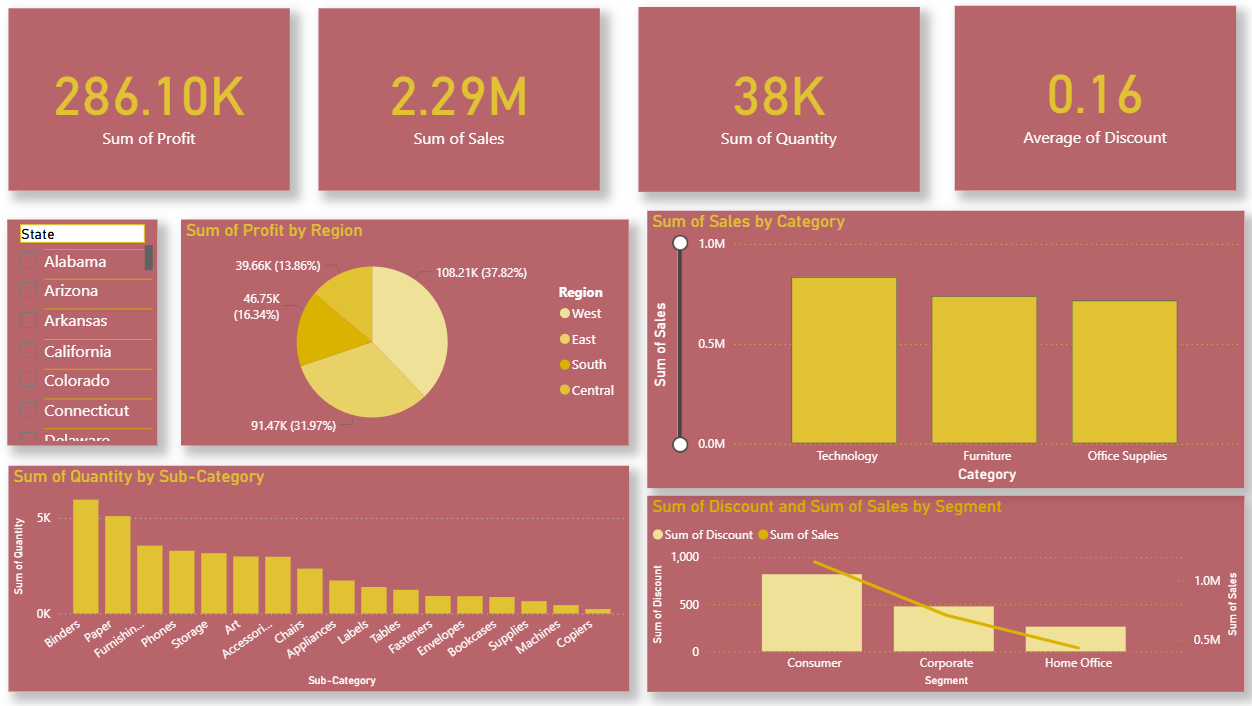

The page's visual inventory and layout, read from the dashboard file:
{"tool":"powerbi","page":{"name":"Page 1","canvas":[1280,720],"ordinal":0},"visuals":[{"type":"card","fields":{"Values":["Sum(superstore_sales_cleaned.Profit)"]},"box":[22.4,21.1,279.9,181.6],"z":0},{"type":"card","fields":{"Values":["Sum(superstore_sales_cleaned.Sales)"]},"box":[330.9,21.1,279.9,181.6],"z":1000},{"type":"card","fields":{"Values":["Sum(superstore_sales_cleaned.Quantity)"]},"box":[649.3,19.9,279.9,184.1],"z":2000},{"type":"card","fields":{"Values":["Avg(superstore_sales_cleaned.Discount)"]},"box":[964.1,18.7,279.9,184.1],"z":3000},{"type":"clusteredColumnChart","fields":{"Category":["superstore_sales_cleaned.Category"],"Y":["Sum(superstore_sales_cleaned.Sales)"]},"box":[658.7,222.3,594.2,275.8],"z":4000},{"type":"lineClusteredColumnComboChart","fields":{"Category":["superstore_sales_cleaned.Sub-Category"],"Y":["Sum(superstore_sales_cleaned.Quantity)"]},"box":[22,476.2,617.5,225],"z":5000},{"type":"lineClusteredColumnComboChart","fields":{"Category":["superstore_sales_cleaned.Segment"],"Y":["Sum(superstore_sales_cleaned.Discount)"],"Y2":["Sum(superstore_sales_cleaned.Sales)"]},"box":[658.7,506.3,594.2,194.9],"z":6000},{"type":"pieChart","fields":{"Category":["superstore_sales_cleaned.Region"],"Y":["Sum(superstore_sales_cleaned.Profit)"]},"box":[193.5,231.9,446,225],"z":7000},{"type":"slicer","fields":{"Values":["superstore_sales_cleaned.State"]},"box":[20.6,231.9,149.6,225],"z":8000}]}

Visuals, with their boxes in screenshot pixels (x1, y1, x2, y2), scaled from the page's 1280x720 canvas onto the 1252x706 screenshot:
card - Sum(superstore_sales_cleaned.Profit): bbox(22, 21, 296, 199)
card - Sum(superstore_sales_cleaned.Sales): bbox(324, 21, 597, 199)
card - Sum(superstore_sales_cleaned.Quantity): bbox(635, 20, 909, 200)
card - Avg(superstore_sales_cleaned.Discount): bbox(943, 18, 1217, 199)
clusteredColumnChart - superstore_sales_cleaned.Category x Sum(superstore_sales_cleaned.Sales): bbox(644, 218, 1225, 488)
lineClusteredColumnComboChart - superstore_sales_cleaned.Sub-Category x Sum(superstore_sales_cleaned.Quantity): bbox(22, 467, 626, 688)
lineClusteredColumnComboChart - superstore_sales_cleaned.Segment x Sum(superstore_sales_cleaned.Discount): bbox(644, 496, 1225, 688)
pieChart - superstore_sales_cleaned.Region x Sum(superstore_sales_cleaned.Profit): bbox(189, 227, 626, 448)
slicer - superstore_sales_cleaned.State: bbox(20, 227, 166, 448)
